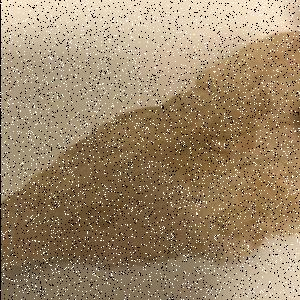Trash: (2, 32, 300, 300)
